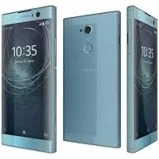sony: (1, 2, 56, 153), (63, 7, 120, 150)
